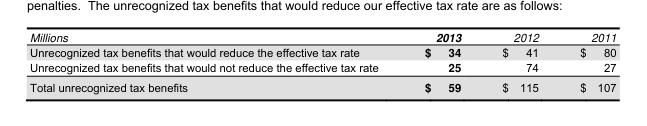table: (29, 28, 615, 94)
table column: (29, 28, 400, 94), (400, 28, 480, 94), (480, 28, 558, 94), (558, 28, 615, 94)
table column header: (29, 28, 615, 44)
table row: (29, 76, 615, 94), (29, 59, 615, 76), (29, 28, 615, 44), (29, 44, 615, 59)
